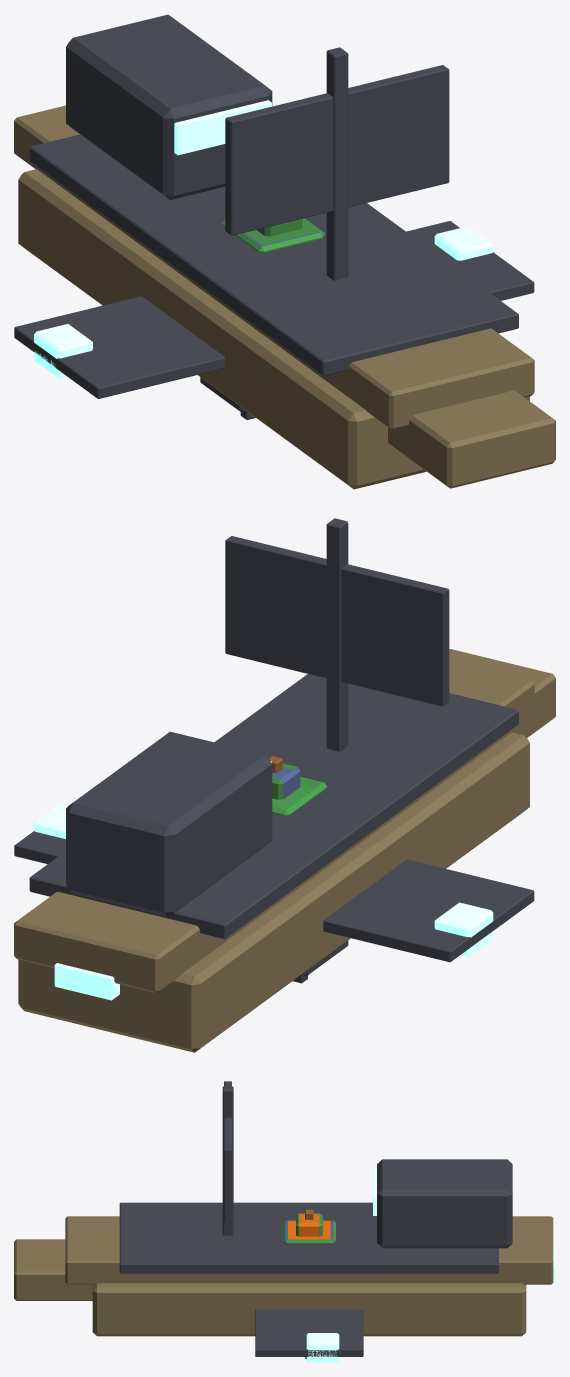
Rendered from flagship_props_038.glb.
3 views of the same model, one above another, from view 1: azimuth 30°, elevation 25°; view 2: azimuth 150°, elevation 25°; view 3: azimuth 270°, elevation 25° (orthographic). The views are drawn at different scales.
Visible parts, largest first — view 1: Veh_Ark_Hull, Veh_Ark_WingL, Veh_Ark_WingR, Prop_Tree_Mangrove_Mature_Top, Prop_Tree_Oak_Mature_Top; view 2: Veh_Ark_Hull, Veh_Ark_WingL, Veh_Ark_WingR, Prop_Tree_Oak_Mature_Top; view 3: Veh_Ark_Hull, Veh_Ark_WingR, Prop_Tree_Maple_Mature_Top.
Boxes of the visible parts, x1,y1,x2,y2 form: Veh_Ark_Hull: (14, 14, 555, 489); Veh_Ark_WingL: (14, 296, 225, 398); Veh_Ark_WingR: (406, 221, 534, 300); Prop_Tree_Mangrove_Mature_Top: (246, 218, 325, 245); Prop_Tree_Oak_Mature_Top: (221, 219, 322, 252); Veh_Ark_Hull: (14, 518, 555, 1052); Veh_Ark_WingL: (323, 859, 534, 962); Veh_Ark_WingR: (14, 790, 89, 864); Prop_Tree_Oak_Mature_Top: (272, 777, 327, 815); Veh_Ark_Hull: (14, 1081, 555, 1336); Veh_Ark_WingR: (255, 1309, 363, 1362); Prop_Tree_Maple_Mature_Top: (288, 1214, 330, 1239).
Bounding box in the file's own units: 12 × 10.65 × 20.
